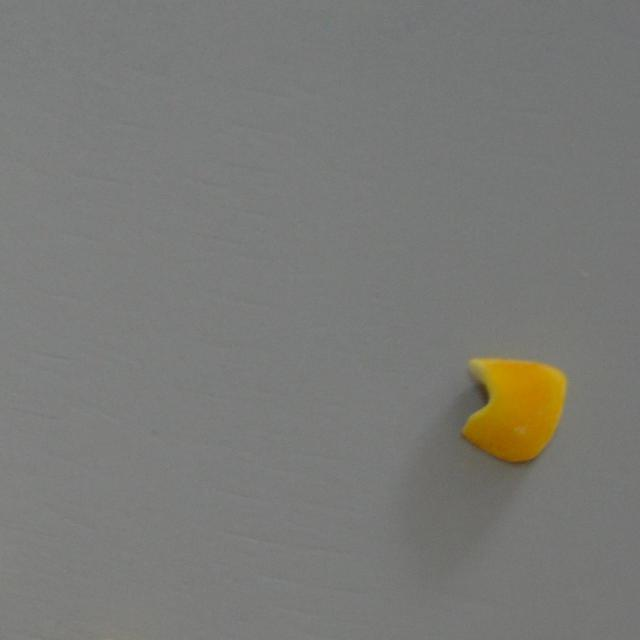no_canjicado: (457, 354, 566, 462)
